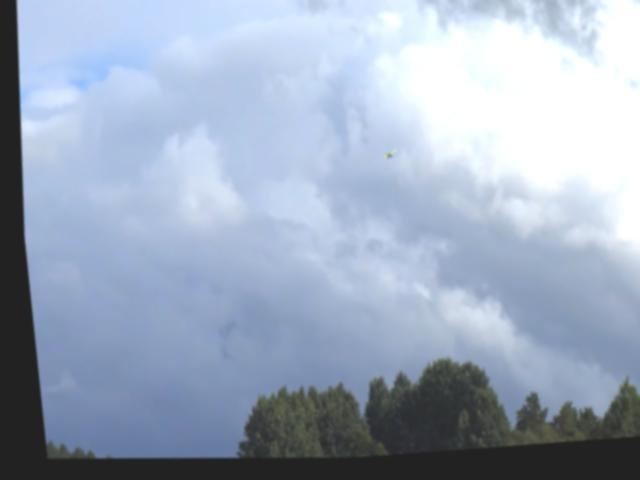plane: (379, 154, 394, 168)
